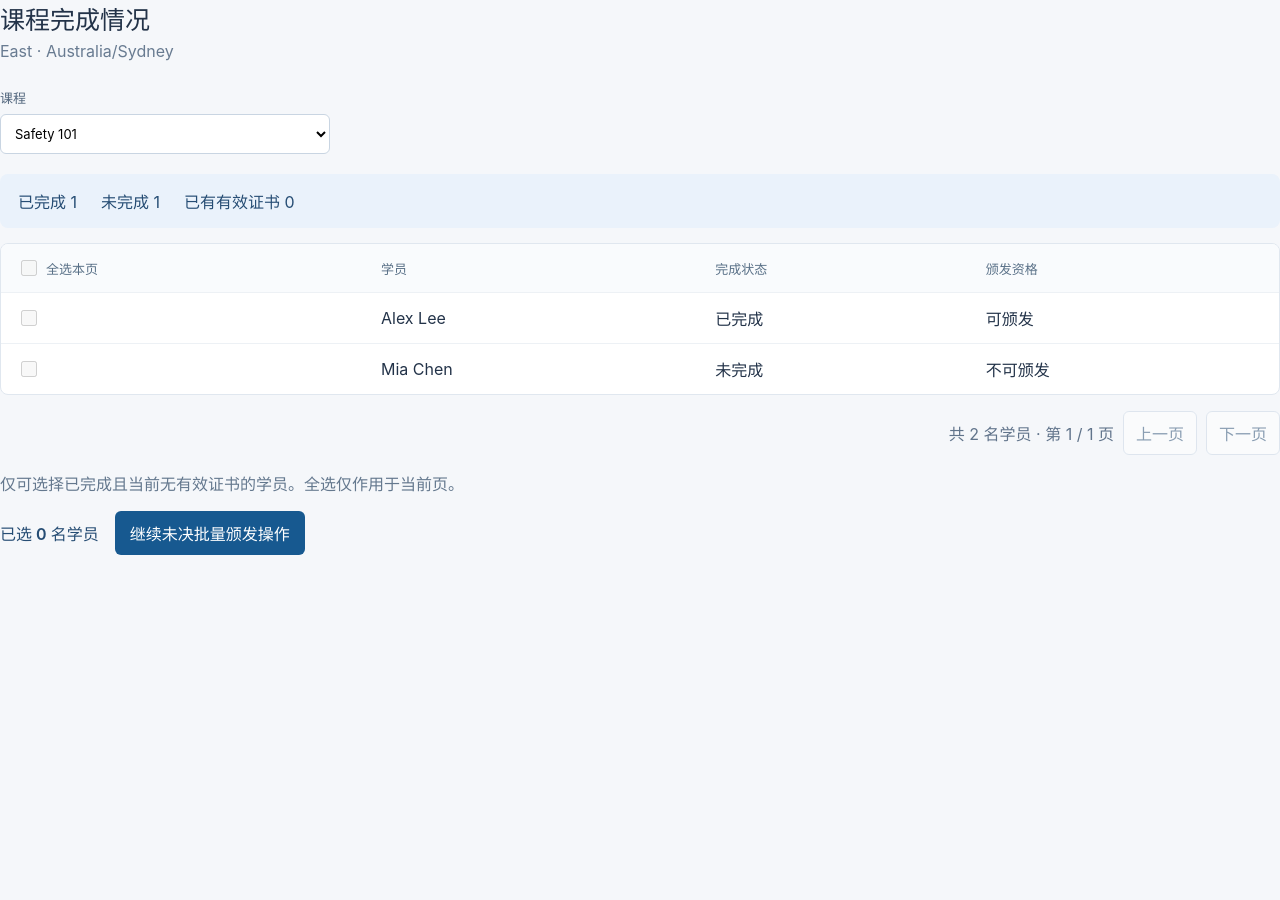
can discard a rejected legacy pending request and make a new selection
The width and height of the screenshot is (1280, 900).
What coordinates should you click on to do the following:
click the button "继续未决批量颁发操作"
I would click on:
 (210, 533)
Its box is [115, 511, 305, 555].
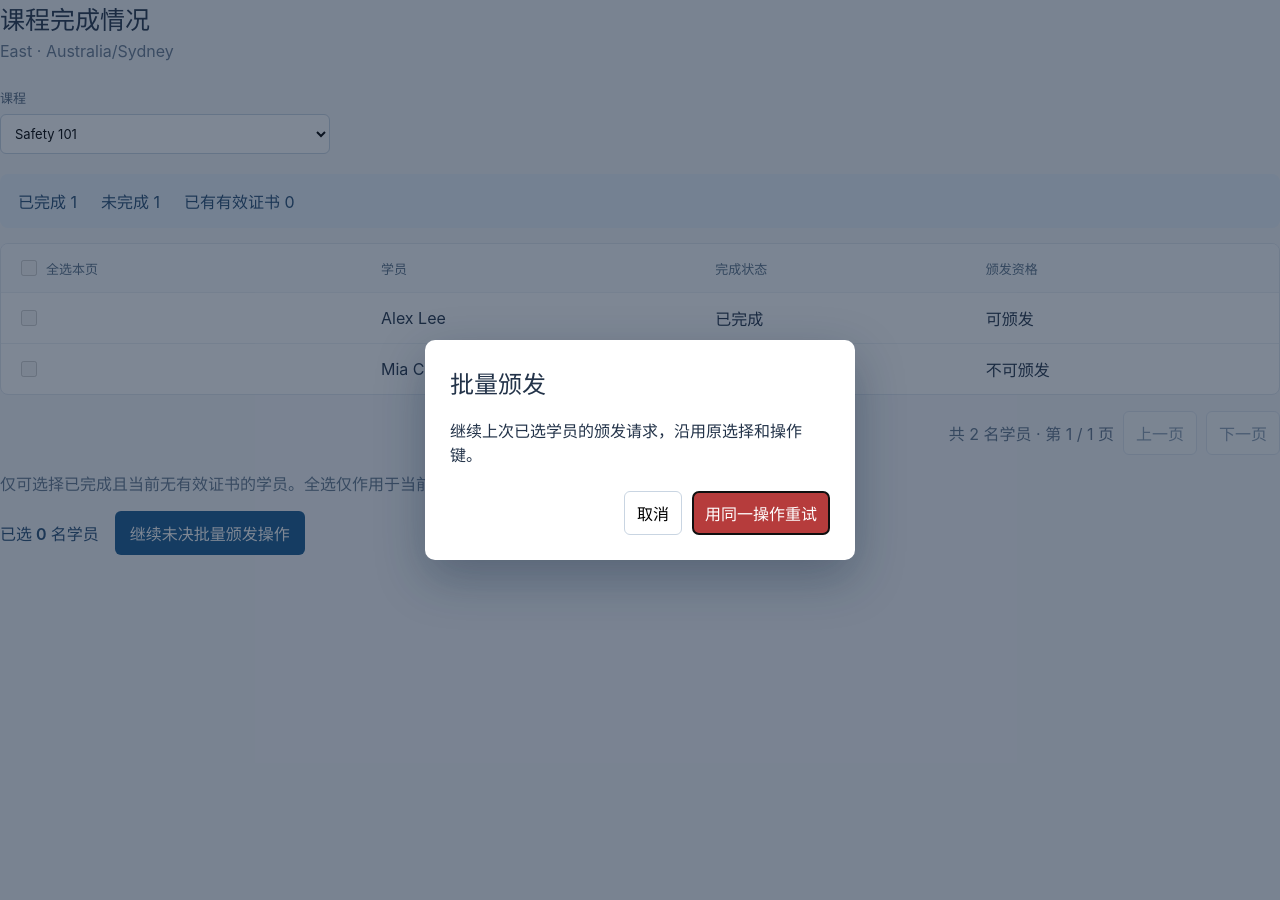
What coordinates should you click on to do the following:
click the button "用同一操作重试"
I would click on:
 (761, 514)
Its box is [692, 492, 830, 536].
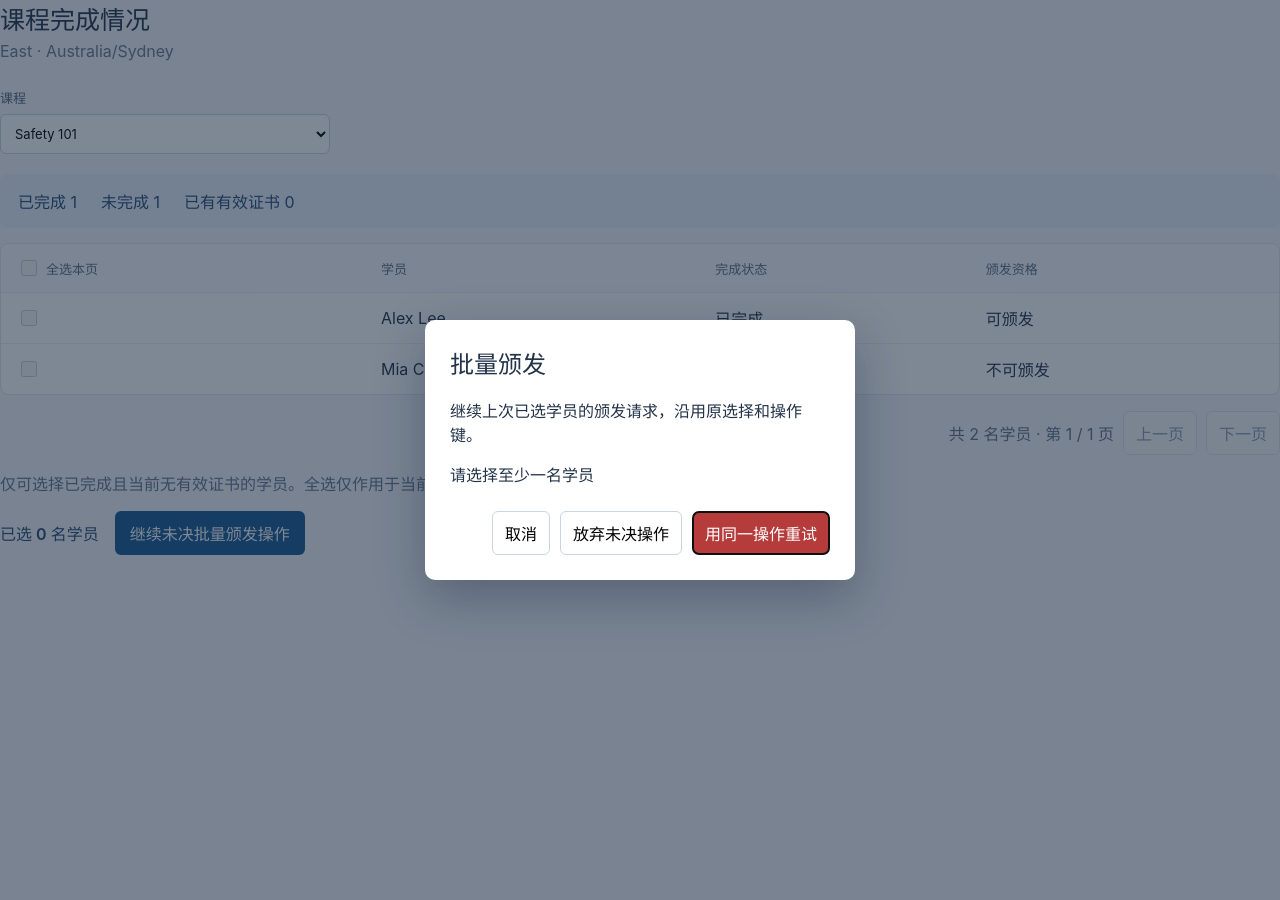
Expected: the text "请选择至少一名学员" is shown, [450, 466, 594, 486]
What coordinates should you click on to do the following:
click the button "放弃未决操作"
I would click on:
 (621, 534)
Its box is [560, 512, 682, 556].
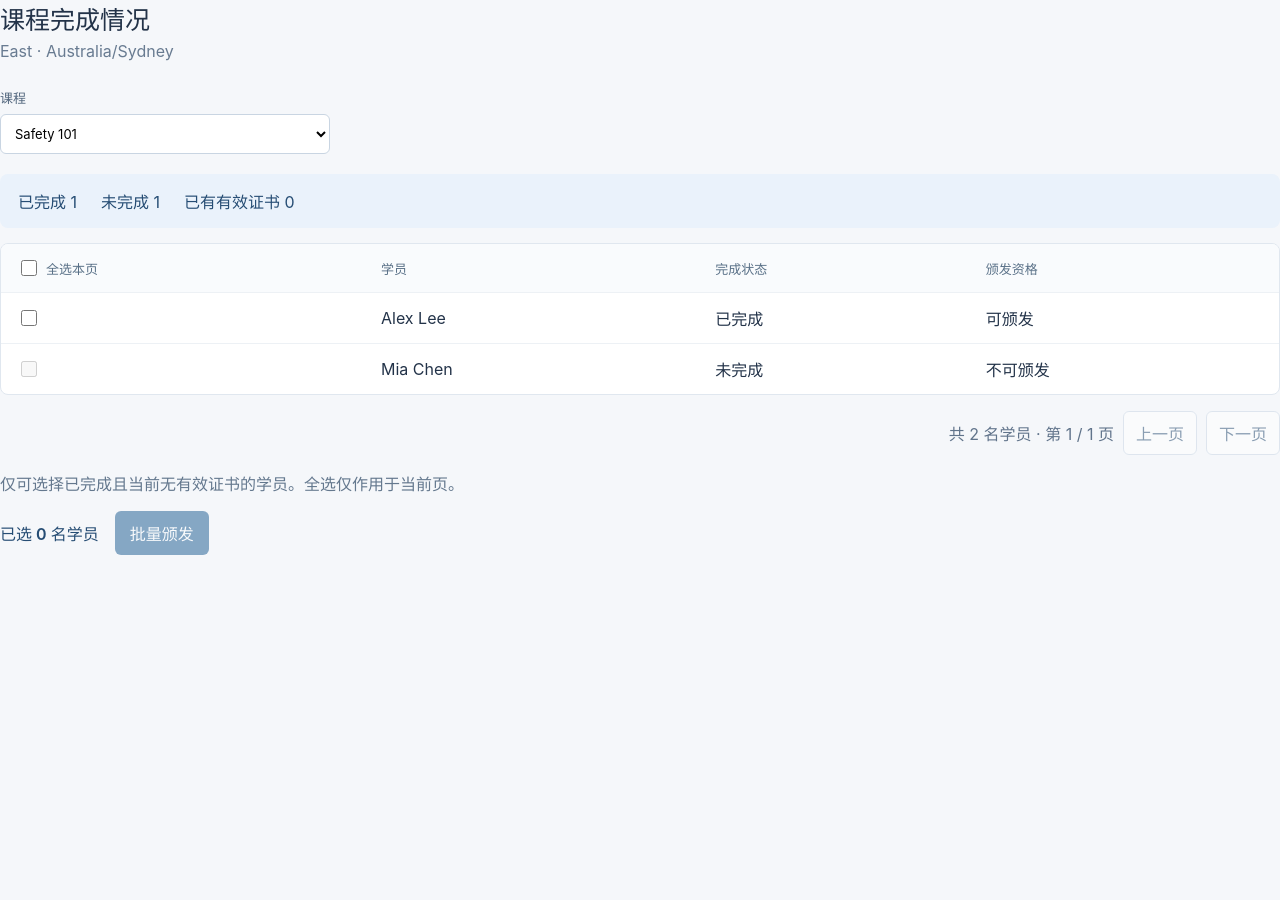
What coordinates should you click on to do the following:
click the checkbox named "选择 Alex Lee"
I would click on:
 (29, 318)
Its box is [21, 310, 37, 326].
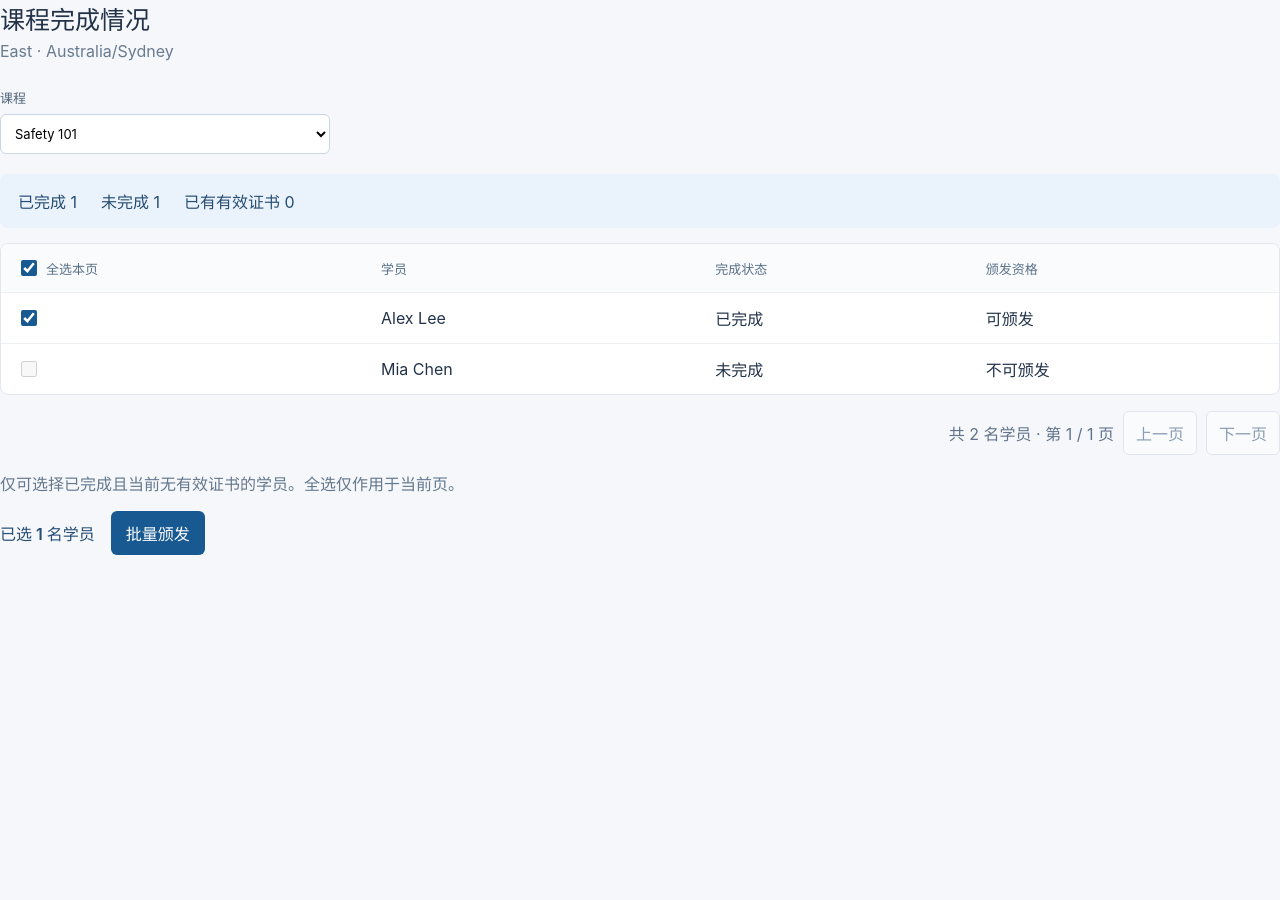
Expected: the button "批量颁发" is enabled, [111, 511, 205, 555]
